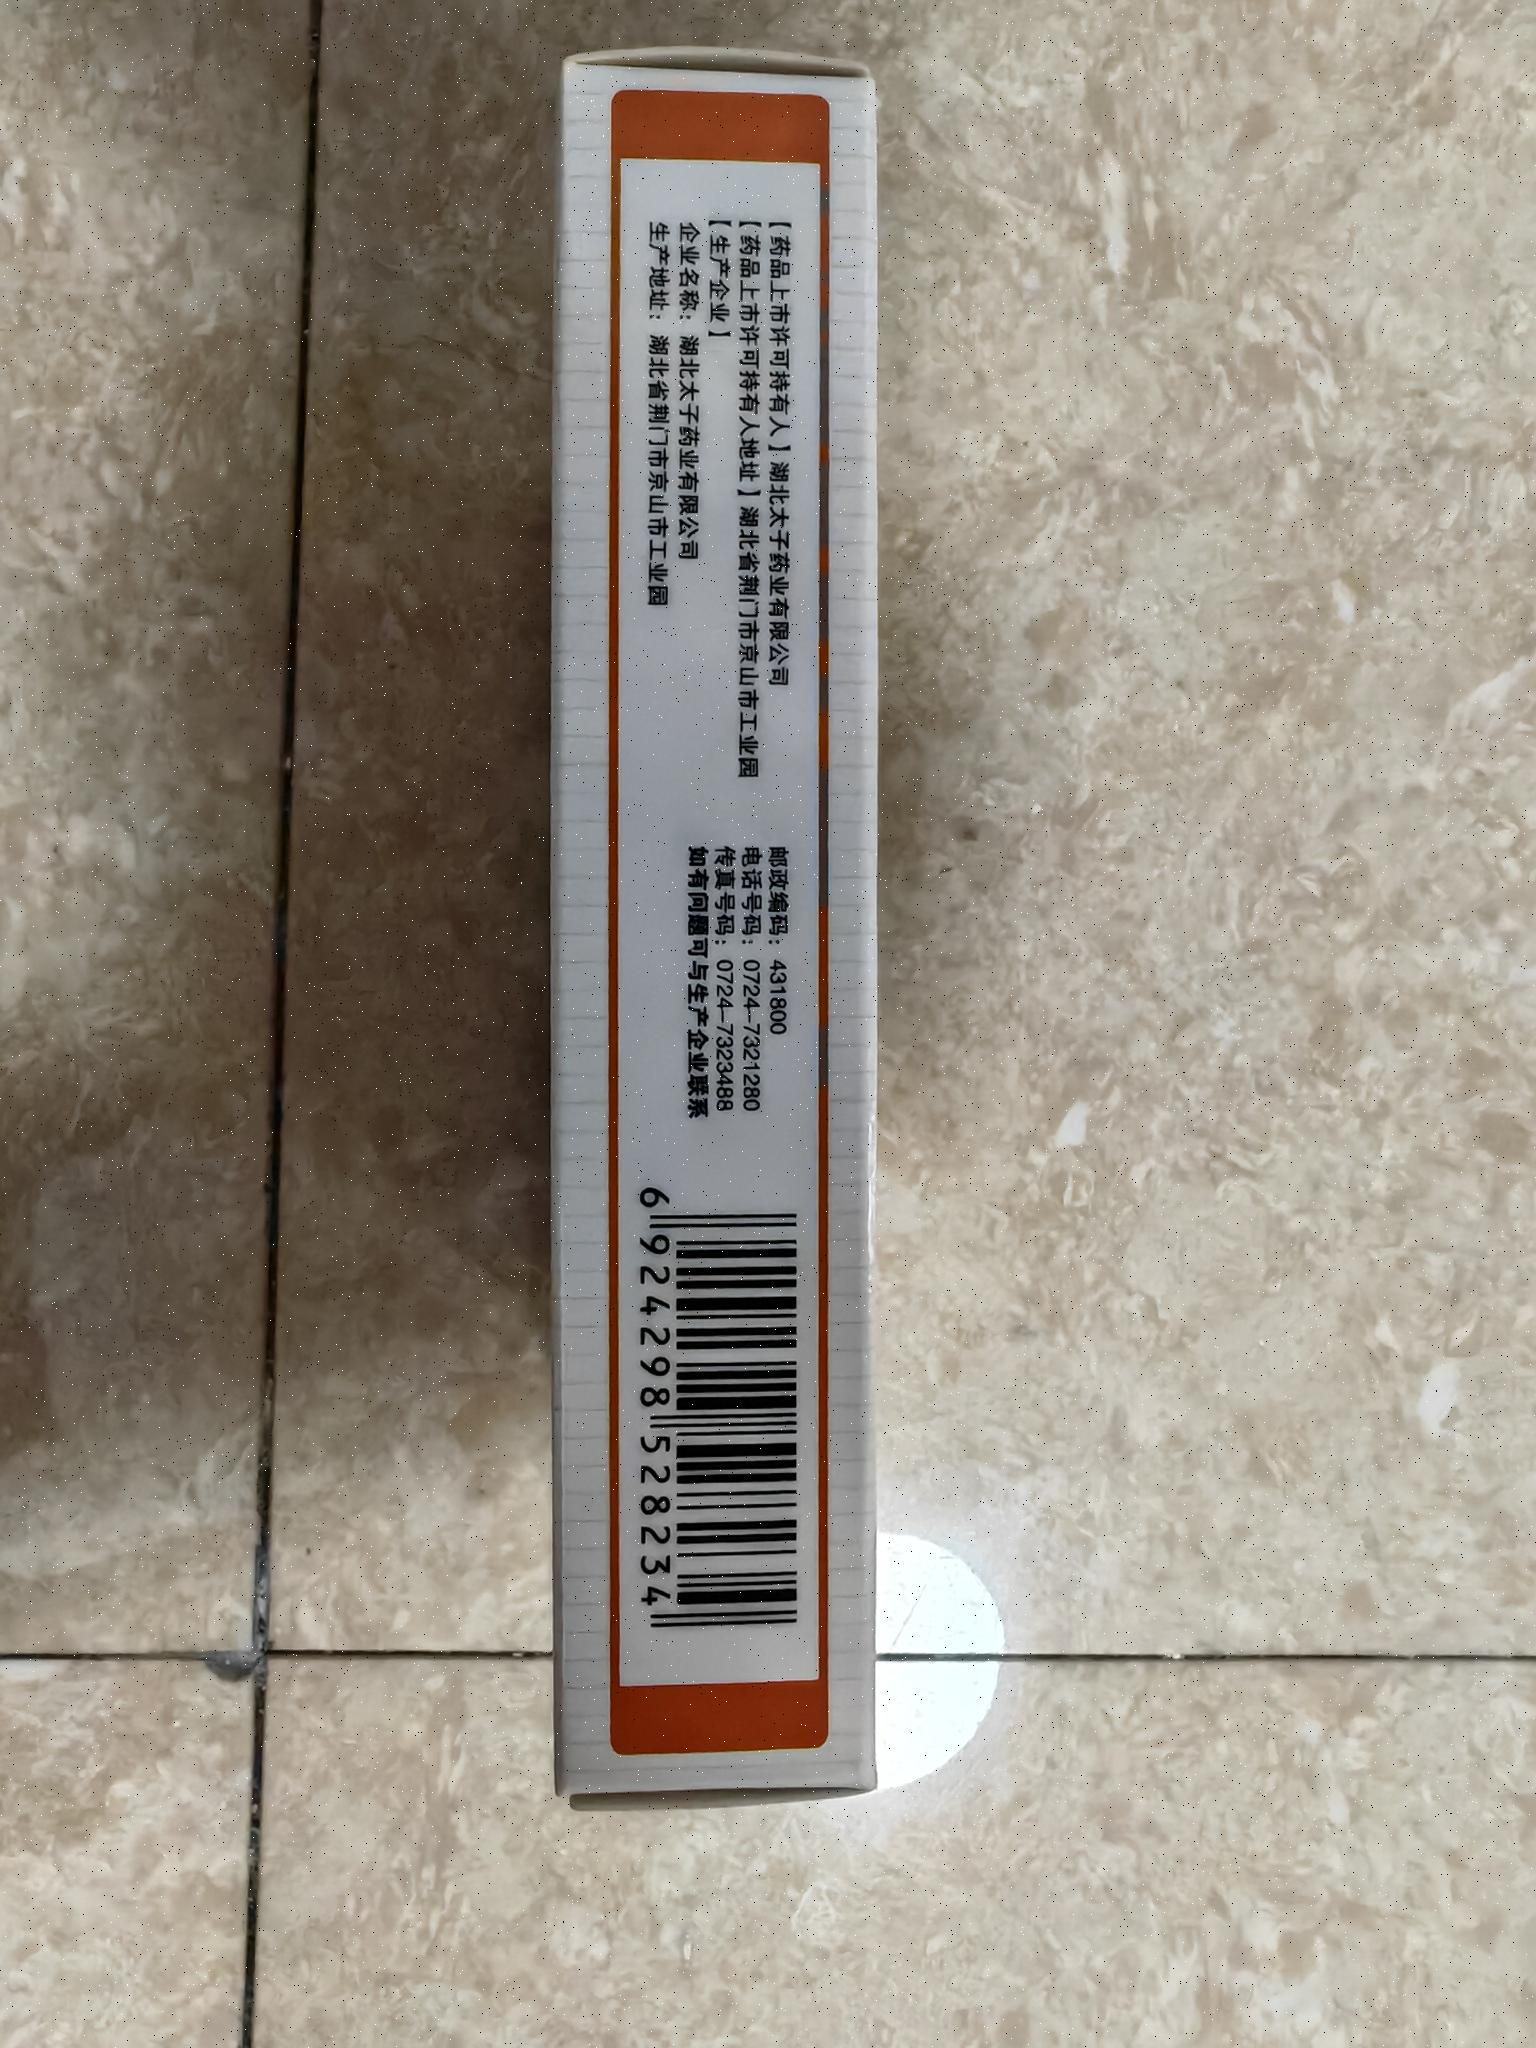Medicine5: (536, 18, 916, 1843)
